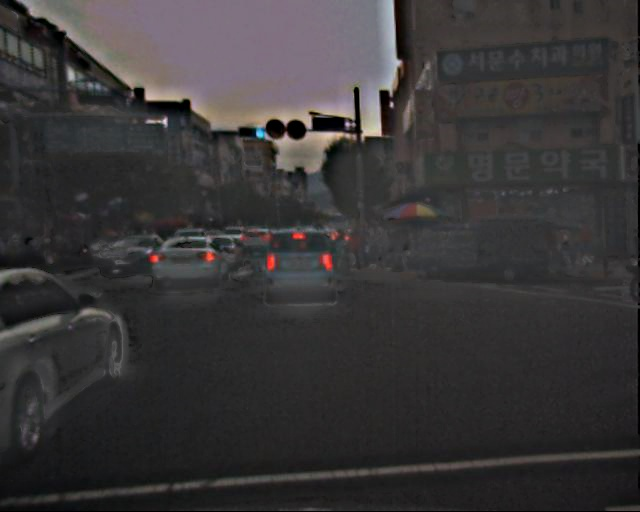person: (346, 225, 414, 272), (570, 220, 593, 275)
